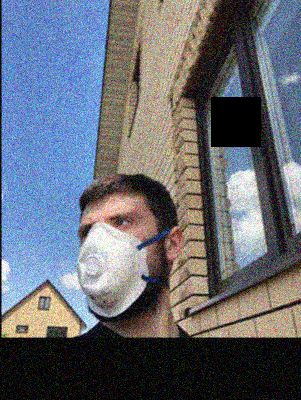with_mask: (76, 208, 153, 322)
